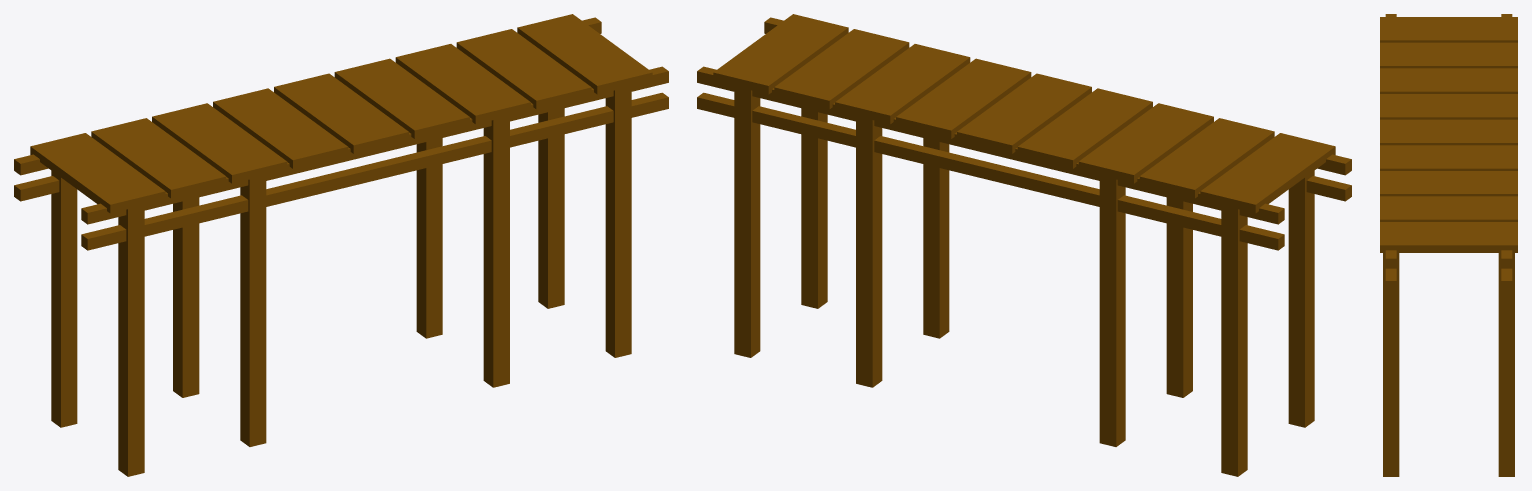
The model's file is bridge_long.fbx.
The picture shows the model from 3 angles, left to right: view 1: azimuth 30°, elevation 25°; view 2: azimuth 150°, elevation 25°; view 3: azimuth 270°, elevation 25°; orthographic projection. The views are drawn at different scales.
Visible parts, largest first — view 1: Bridge_Long; view 2: Bridge_Long; view 3: Bridge_Long.
Boxes of the visible parts, box(x1,y1,x2,y2) form: Bridge_Long: box(14, 14, 668, 476); Bridge_Long: box(697, 14, 1351, 476); Bridge_Long: box(1380, 14, 1517, 476).
Bounding box in the file's own units: 2100 × 960 × 500.
